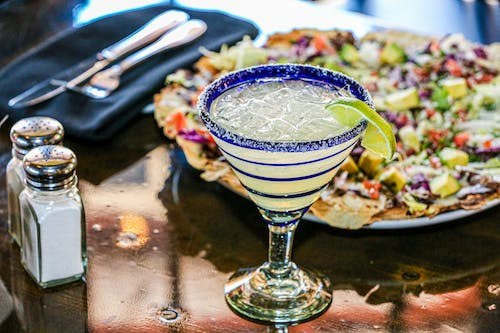alcohol: (197, 63, 377, 325)
knife: (6, 8, 191, 111)
